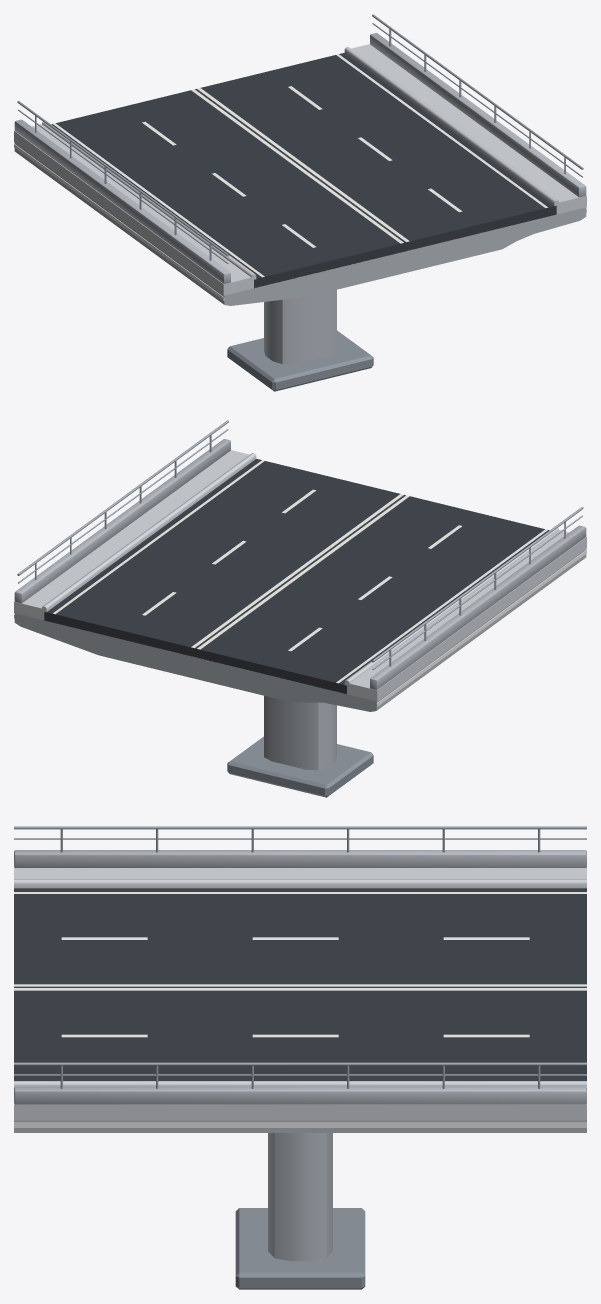
The model's file is ponte_tabuleiro_avenida.glb.
3 renders of one model, top to bottom at view 1: azimuth 30°, elevation 25°; view 2: azimuth 150°, elevation 25°; view 3: azimuth 270°, elevation 25°, orthographic. The views are drawn at different scales.
Parts seen in each view (by area): view 1: ponte_tabuleiro_avenida; view 2: ponte_tabuleiro_avenida; view 3: ponte_tabuleiro_avenida.
Boxes of the visible parts, x1,y1,x2,y2 form: ponte_tabuleiro_avenida: (14,14,586,391); ponte_tabuleiro_avenida: (14,420,586,797); ponte_tabuleiro_avenida: (14,826,586,1289).
Size of the model in its own units: 15 by 9.05 by 15.
1 material, 1 textured.
